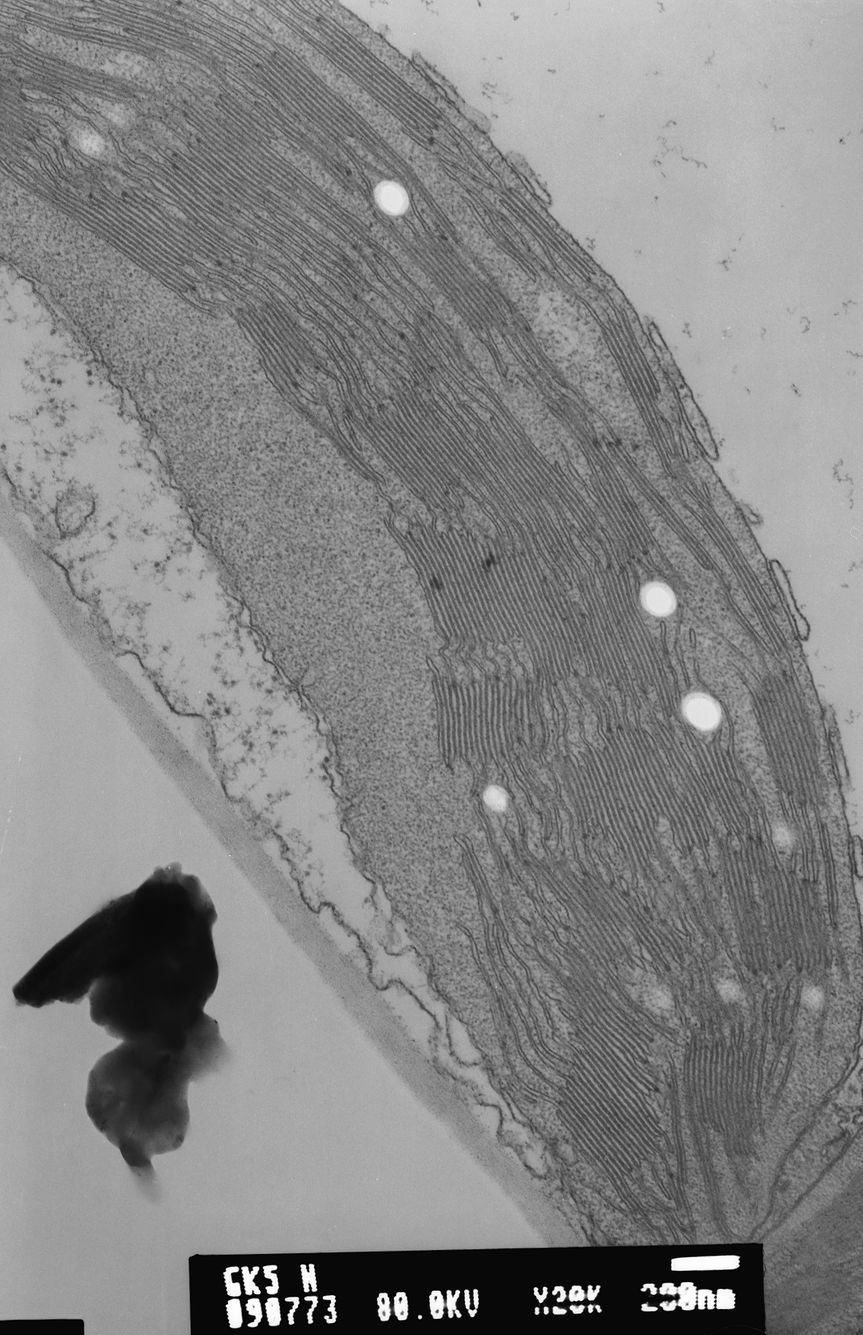granum: (149, 91, 372, 262), (551, 942, 666, 1222), (396, 522, 582, 689), (548, 717, 724, 884), (42, 182, 238, 299), (532, 856, 689, 987), (712, 832, 837, 980), (314, 13, 447, 152), (474, 424, 602, 565), (359, 384, 489, 513), (246, 40, 385, 155), (605, 437, 717, 572), (397, 229, 534, 339), (593, 558, 681, 723), (697, 505, 789, 658), (749, 668, 832, 811), (87, 0, 227, 83), (599, 317, 675, 469), (251, 96, 362, 195), (681, 1034, 765, 1162), (233, 292, 335, 395), (497, 186, 598, 285), (428, 672, 528, 770), (7, 39, 144, 105), (572, 569, 638, 705), (780, 1162, 863, 1262), (589, 451, 660, 561), (21, 11, 163, 65), (683, 732, 748, 834), (765, 1264, 854, 1334), (0, 64, 53, 173), (326, 426, 386, 489), (451, 832, 492, 900), (546, 397, 597, 449), (496, 235, 535, 271), (491, 850, 520, 889), (25, 74, 67, 99), (338, 403, 360, 431)
